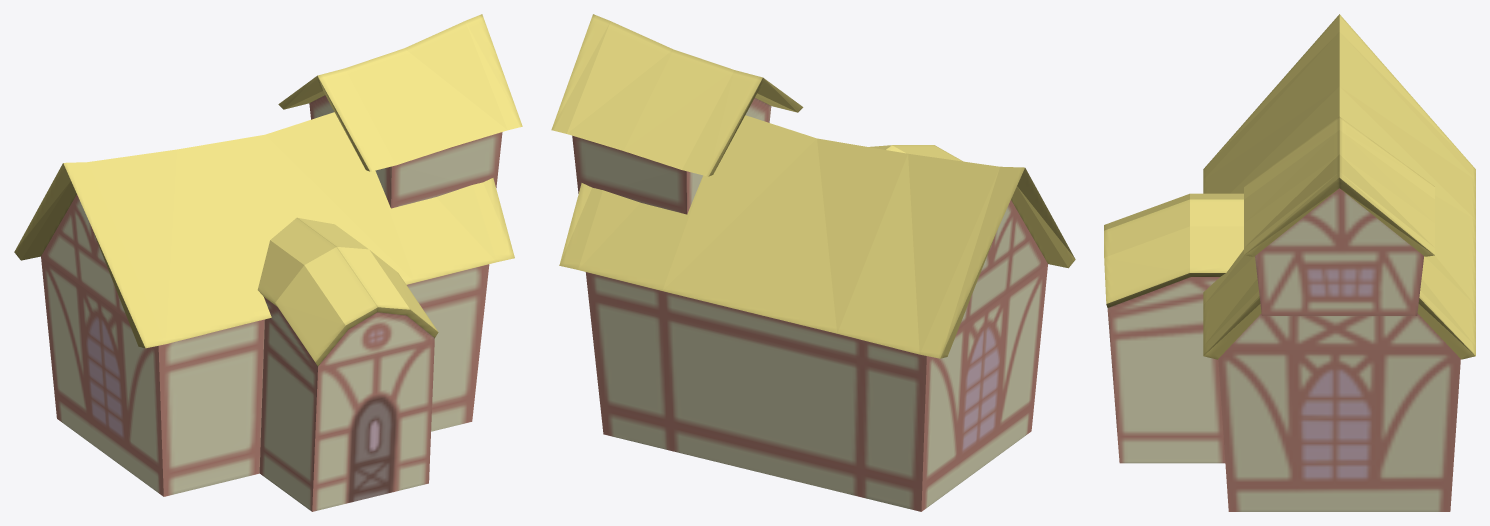
The model's file is HouseConstructParts.fbx.
The picture shows the model from 3 angles, left to right: view 1: azimuth 30°, elevation 25°; view 2: azimuth 150°, elevation 25°; view 3: azimuth 270°, elevation 25°; orthographic projection. The views are drawn at different scales.
Parts seen in each view (by area): view 1: Base House.001; view 2: Base House.001; view 3: Base House.001.
Boxes of the visible parts, bbox=[...] form: Base House.001: bbox=[14, 14, 522, 511]; Base House.001: bbox=[551, 14, 1075, 511]; Base House.001: bbox=[1104, 14, 1475, 511].
Bounding box in the file's own units: 913 × 735 × 676.
Materials: 1 (1 with a texture image).
